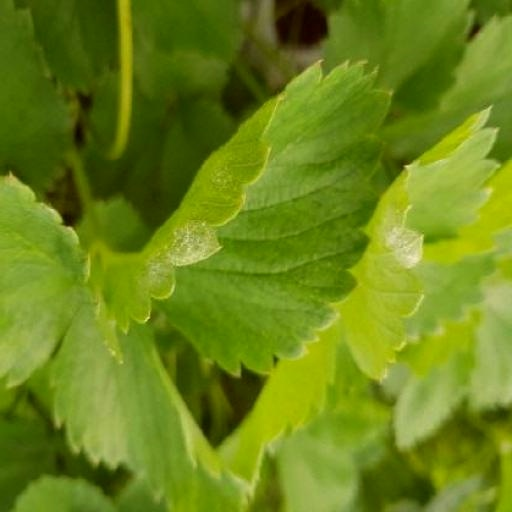Powdery Mildew Leaf: (118, 132, 422, 455)
